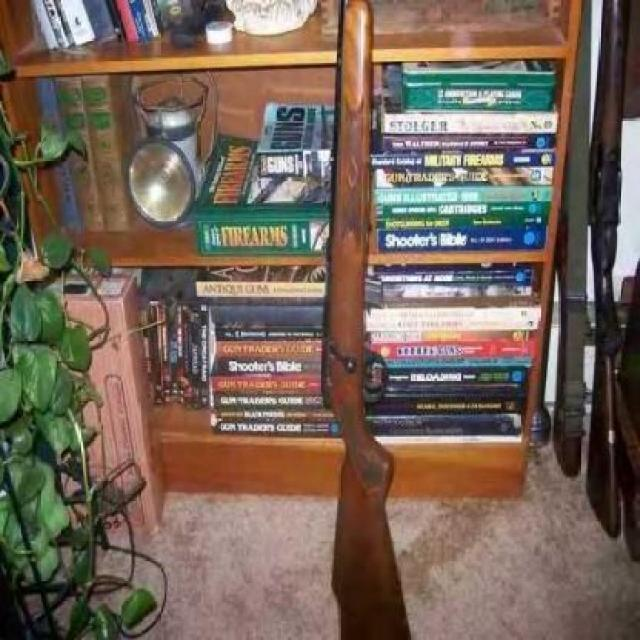weapon: (321, 0, 413, 640), (586, 0, 640, 538), (553, 0, 592, 480)
